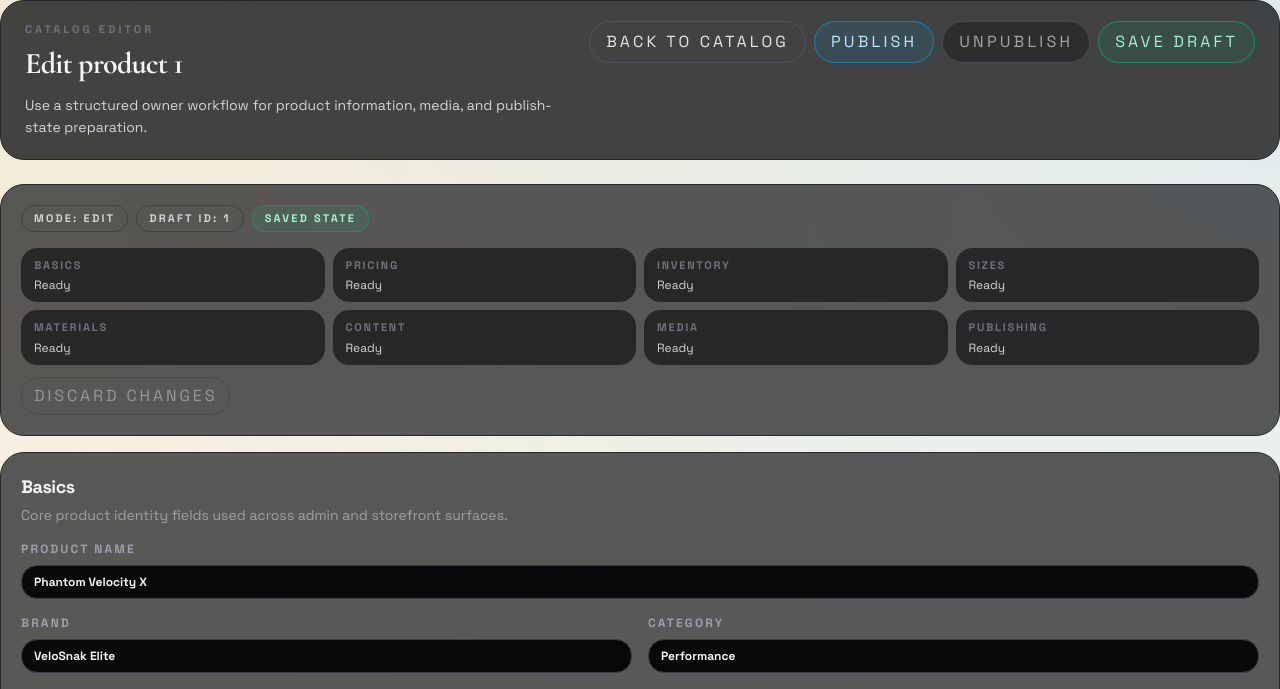
Scenario: AdminCatalogEditorPage › publishes a valid draft from the editor workflow
Check: the text "Draft ID: 1" is shown, box x1=136 y1=205 x2=244 y2=232
Click the button "Publish" at (874, 42), box x1=814 y1=21 x2=934 y2=63
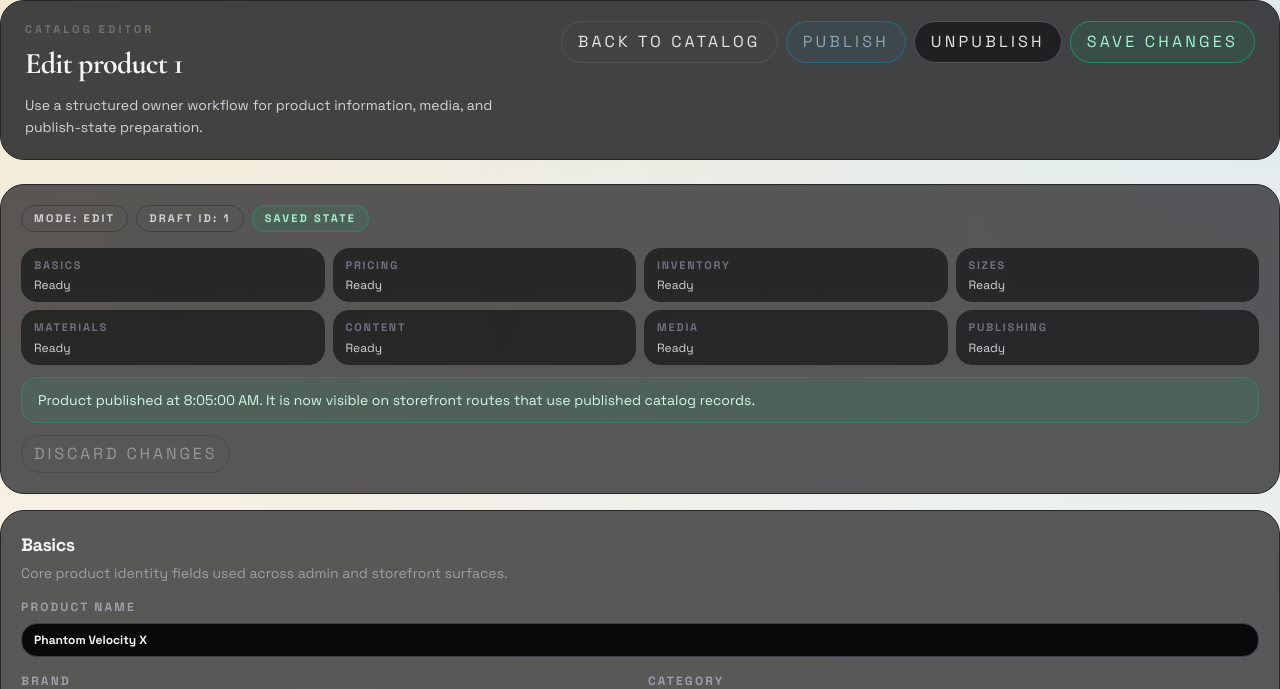
Check: the text "visible on storefront routes" is shown, box x1=38 y1=390 x2=755 y2=408
